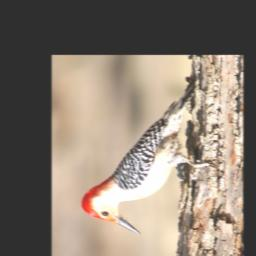Woodpecker: (77, 82, 218, 235)
